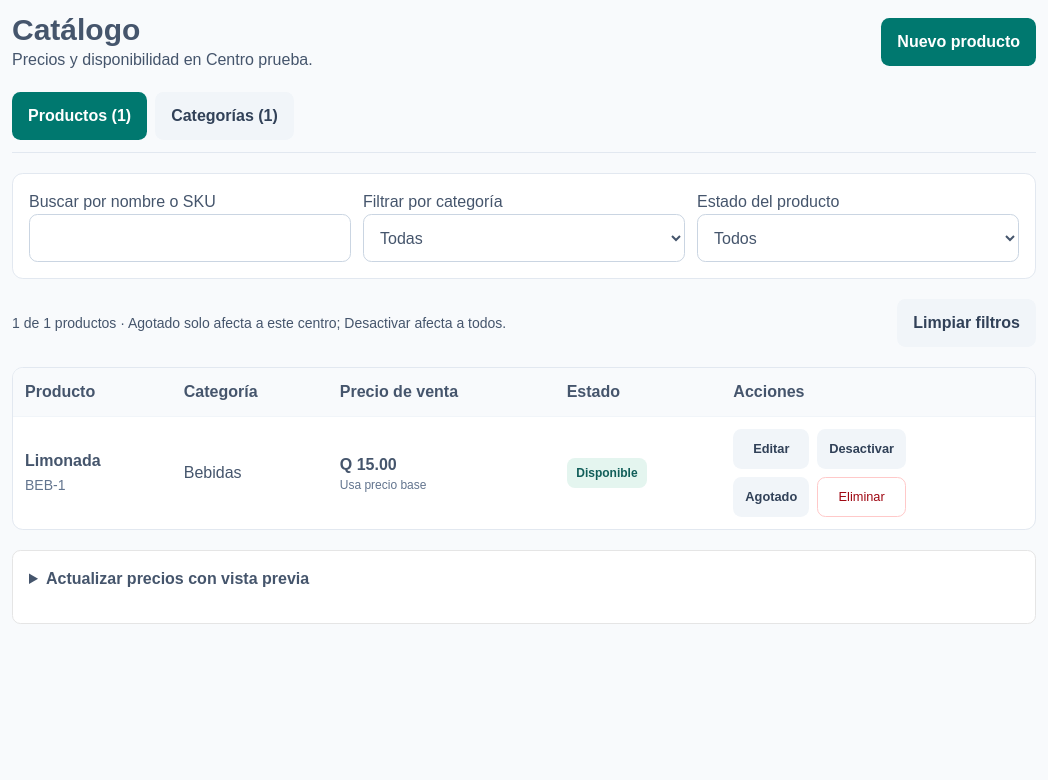
Test case: Catálogo ordenado y editable › muestra solo Eliminar y conserva la confirmación con el nombre y el bloqueo por historial
Step 1. Click the button "Eliminar" → (862, 497), box [817,477,906,517]
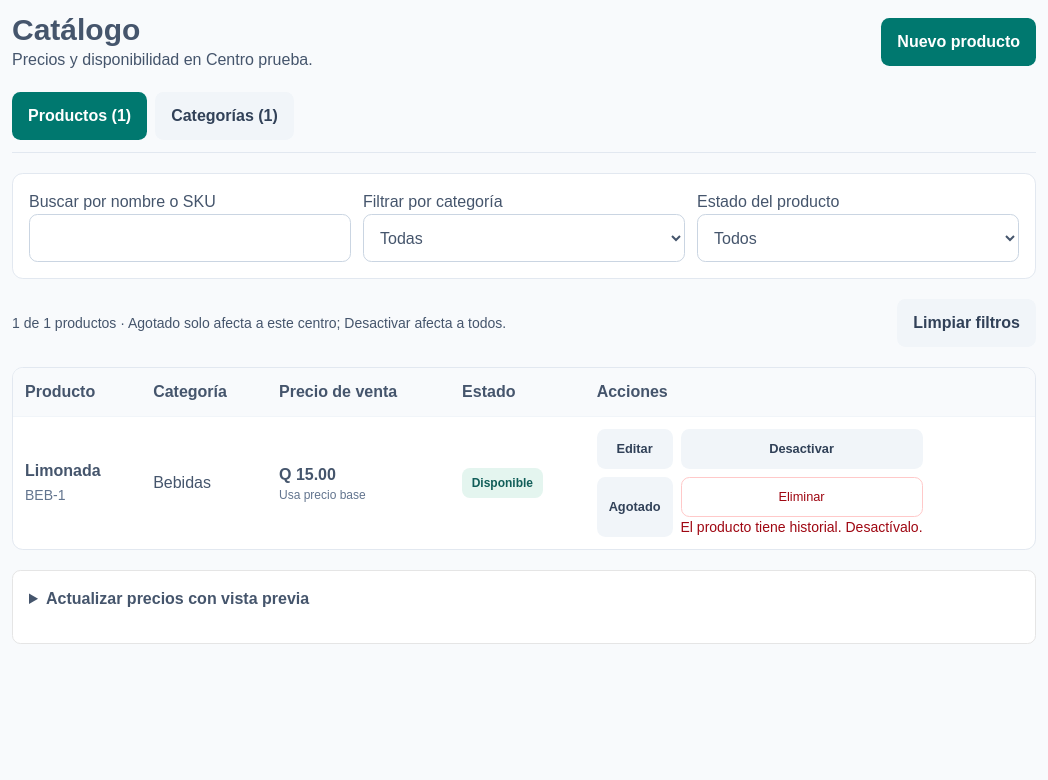
Expected: the button "Eliminar" is shown, [680,477,922,517]
Expected: the message reads "El producto tiene historial. Desactívalo.", [680,519,922,535]
